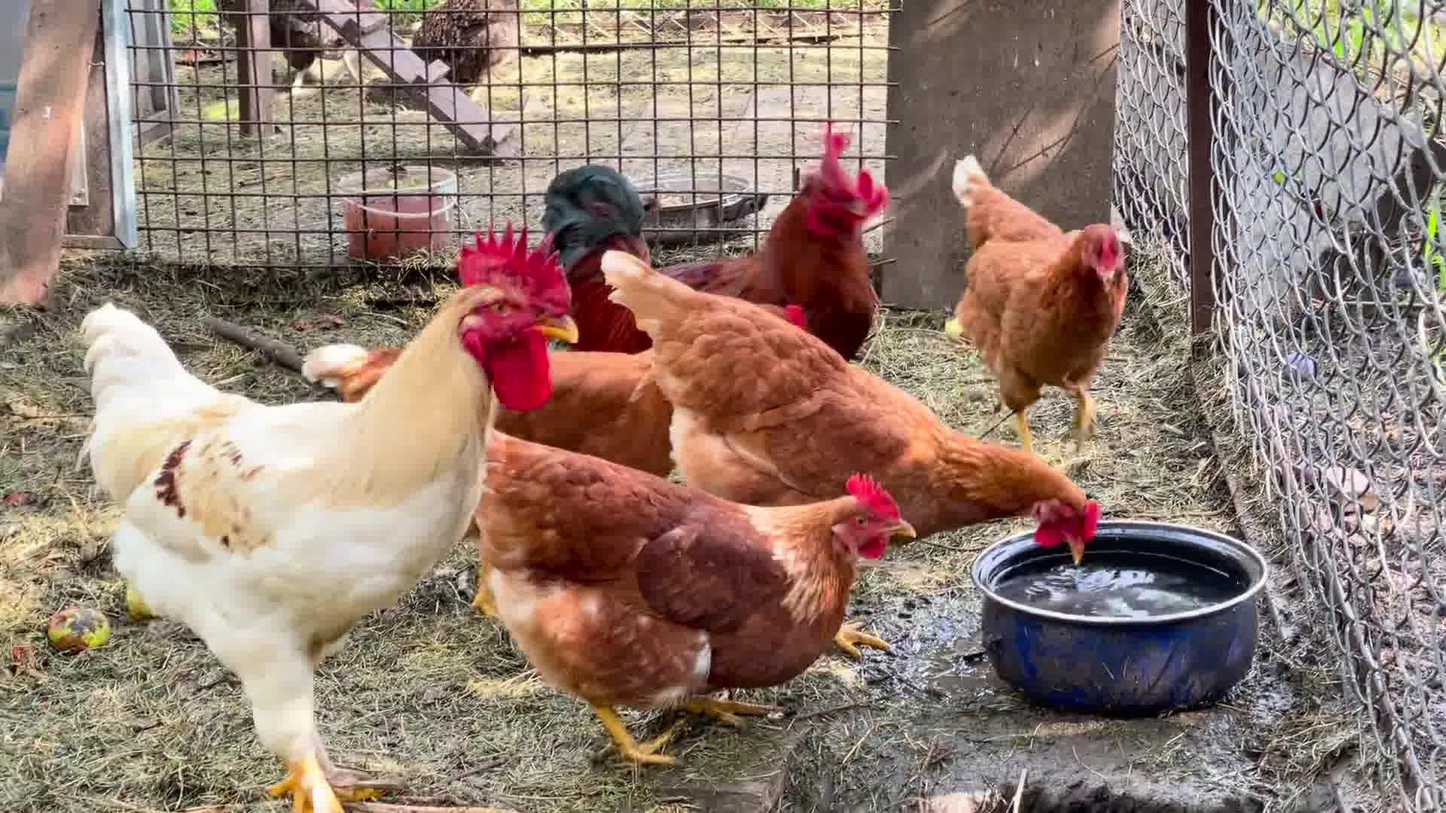Normal: (55, 221, 573, 813), (592, 254, 1106, 568), (486, 413, 909, 770), (541, 130, 893, 360), (962, 155, 1146, 465)
